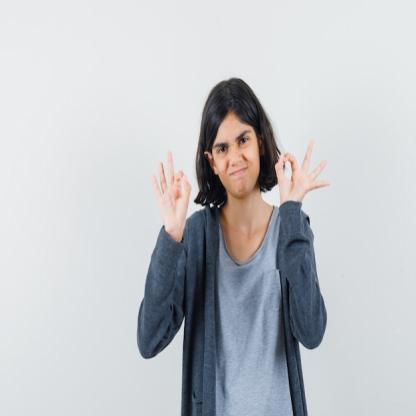ok: (274, 132, 330, 206), (151, 147, 193, 239)
